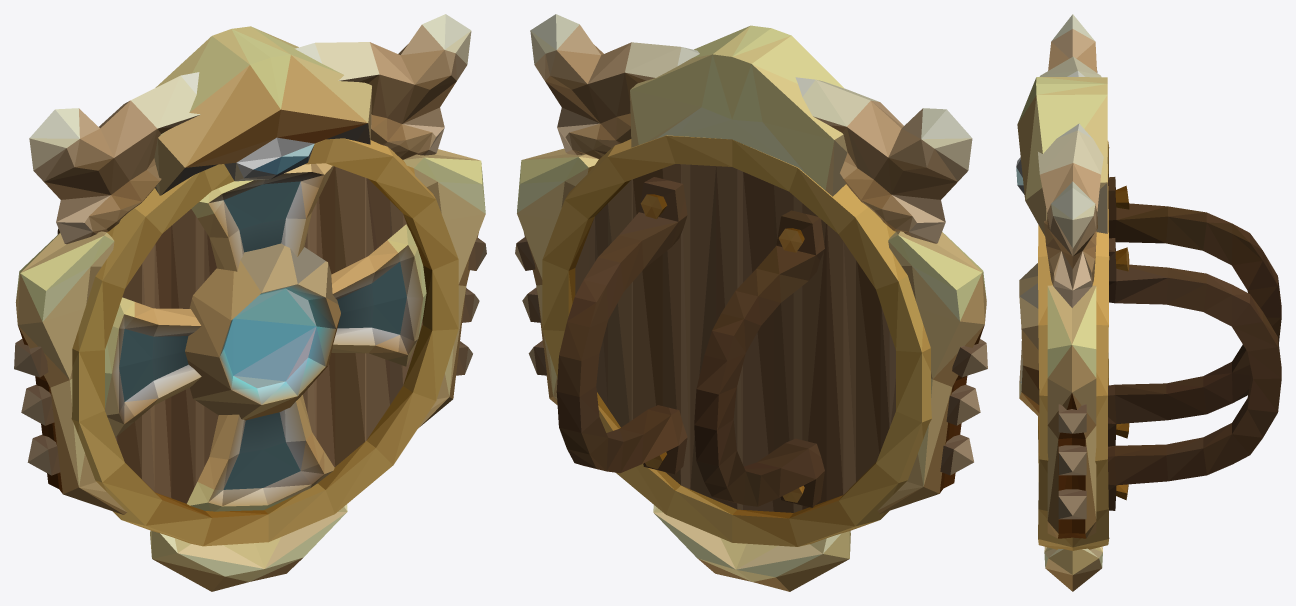
File: weapon_shield_gold_4.fbx
3 renders of one model, left to right at view 1: azimuth 30°, elevation 25°; view 2: azimuth 150°, elevation 25°; view 3: azimuth 270°, elevation 25°, orthographic. The views are drawn at different scales.
Parts seen in each view (by area): view 1: weapon_shield_gold_4; view 2: weapon_shield_gold_4; view 3: weapon_shield_gold_4.
Part boxes in pixels (x1,y1,x2,y2): weapon_shield_gold_4: [14, 14, 486, 591]; weapon_shield_gold_4: [515, 14, 987, 591]; weapon_shield_gold_4: [1016, 14, 1281, 591].
Bounding box in the file's own units: 0.8146 × 0.8882 × 0.4345.
